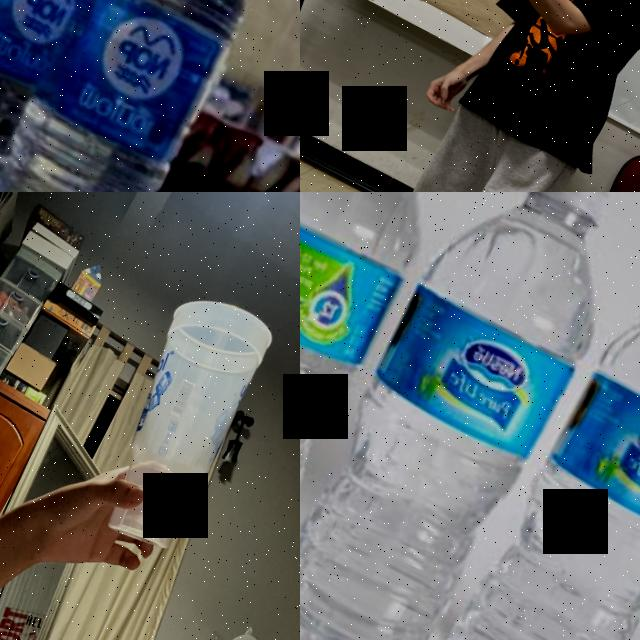bottle: (300, 192, 640, 640), (410, 219, 640, 640), (300, 192, 487, 630), (0, 0, 300, 192), (0, 0, 164, 192)
cup: (70, 282, 282, 560)
